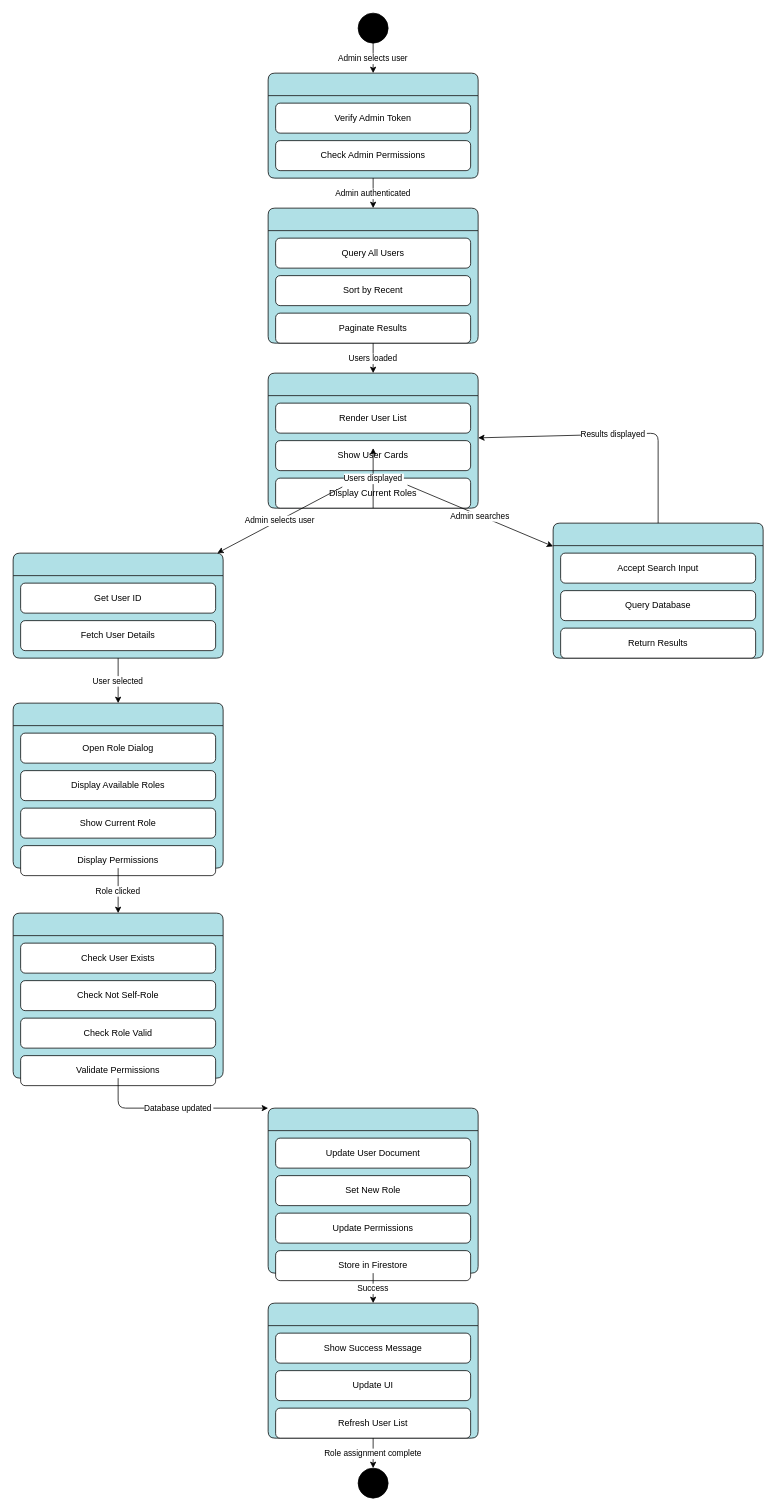
The diagram is 776 pixels wide and 1511 high, and some of its shapes have lost their labels. The shapes that lost their labels are listed below. From the top down, each one's box as (x1, y1, x2, y2) in pixels, then its label:
(267, 72, 478, 178): AdminAuthentication
(267, 207, 478, 343): LoadingUsers
(267, 372, 478, 508): DisplayingUsers
(12, 552, 223, 658): SelectingUser
(552, 522, 763, 658): SearchingUser
(12, 702, 223, 868): RoleSelectionDialog
(12, 912, 223, 1078): ValidatingRoleChange
(267, 1107, 478, 1273): UpdatingDatabase
(267, 1302, 478, 1438): DisplaySuccess
